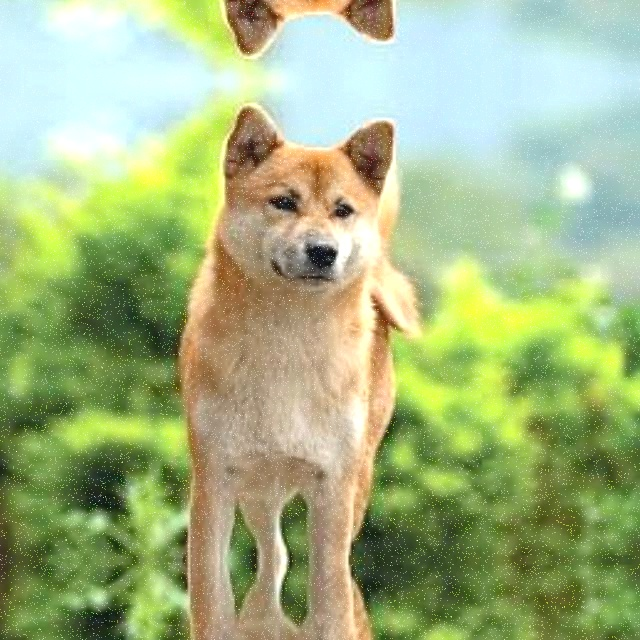dog: (159, 99, 405, 559), (159, 559, 405, 640), (159, 0, 405, 61)
